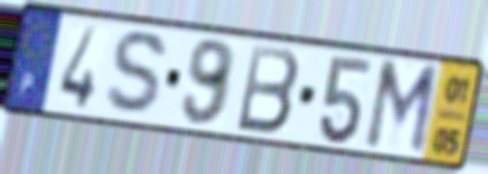4: (55, 22, 101, 114)
5: (317, 51, 376, 147)
9: (177, 37, 240, 130)
B: (233, 40, 303, 138)
M: (360, 57, 443, 160)
S: (102, 27, 173, 121)
